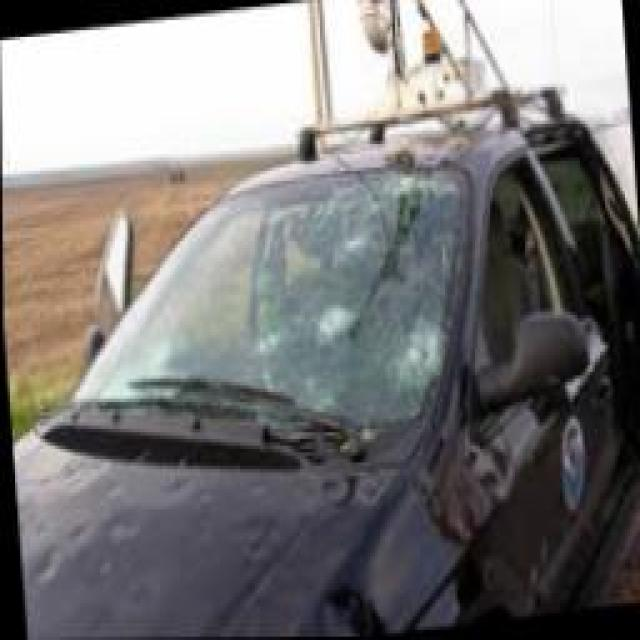Bonnet: (12, 435, 397, 640)
Fender: (273, 402, 560, 638)
Windshield: (65, 164, 469, 438)
